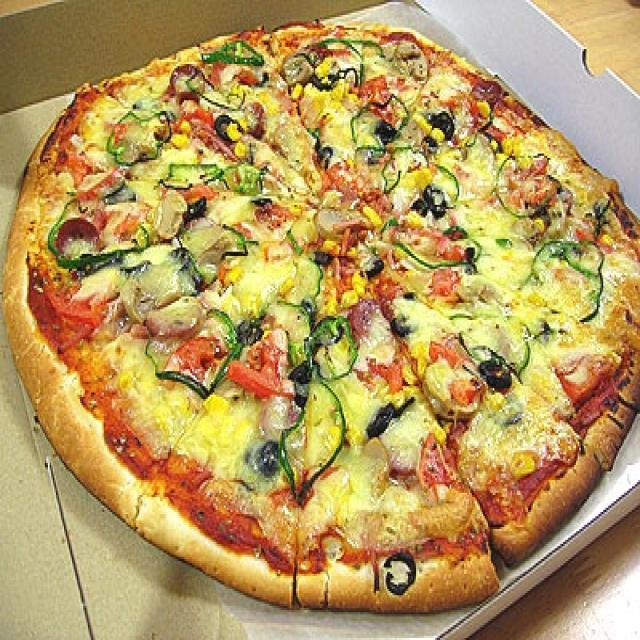汉堡快餐: (8, 23, 640, 640)
